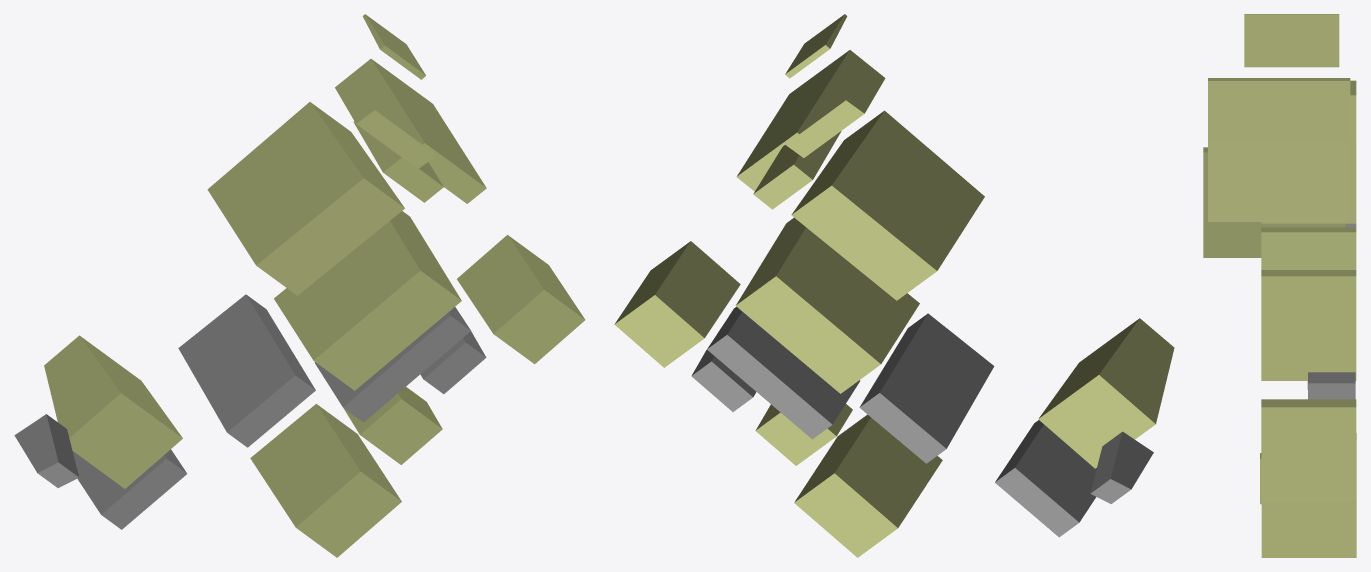
3 renders of one model, left to right at view 1: azimuth 30°, elevation 25°; view 2: azimuth 150°, elevation 25°; view 3: azimuth 270°, elevation 25°, orthographic. The views are drawn at different scales.
Visible parts, largest first — view 1: 0_1_1_3_2_2_3_3_1; view 2: 0_1_1_3_2_2_3_3_1; view 3: 0_1_1_3_2_2_3_3_1.
Boxes of the visible parts, x1=… form: 0_1_1_3_2_2_3_3_1: x1=14, y1=14, x2=585, y2=557; 0_1_1_3_2_2_3_3_1: x1=614, y1=14, x2=1174, y2=557; 0_1_1_3_2_2_3_3_1: x1=1203, y1=14, x2=1356, y2=557.
Bounding box in the file's own units: 44.38 × 40.35 × 9.69.
